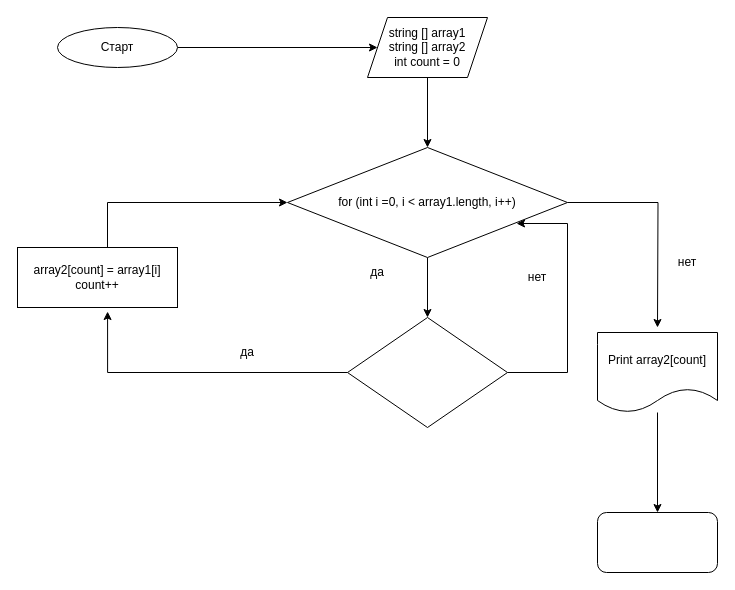
Image size: 735x590. Some labels were removed from this diagram. The centre of each missing label's shape, as x and y in pixels:
if array1[i].length <= 3: the point at 427,372
Финиш: the point at 657,542
